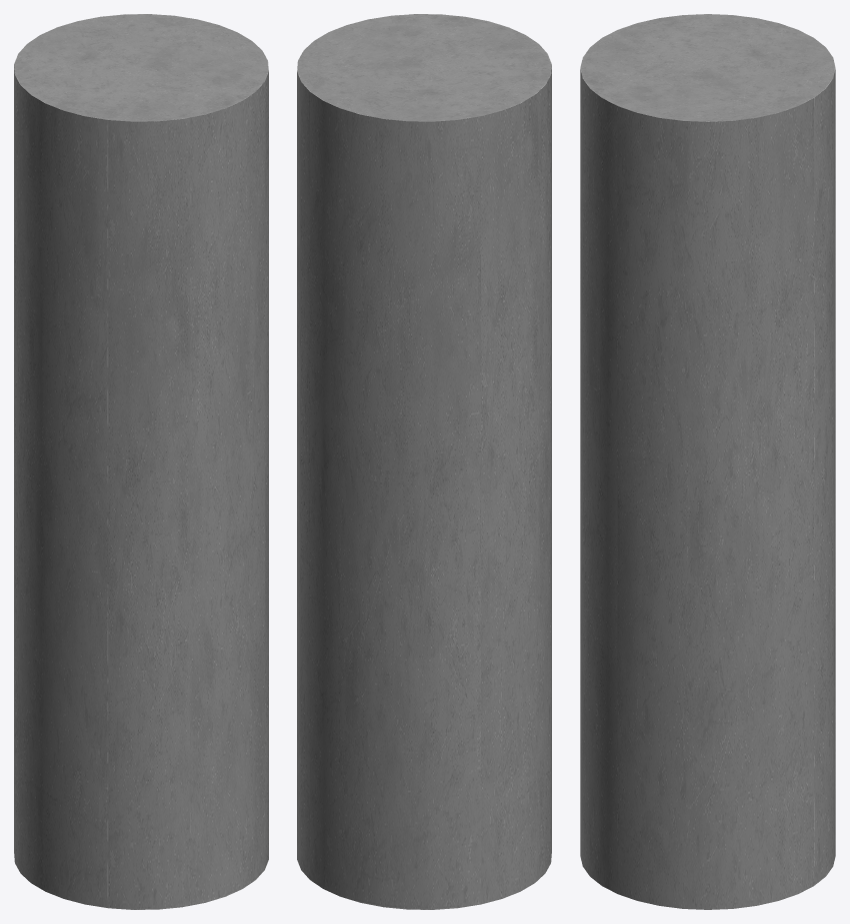
The model's file is poll2.fbx.
The picture shows the model from 3 angles, left to right: view 1: azimuth 30°, elevation 25°; view 2: azimuth 150°, elevation 25°; view 3: azimuth 270°, elevation 25°; orthographic projection.
Parts seen in each view (by area): view 1: poll2; view 2: poll2; view 3: poll2.
Boxes of the visible parts, x1=… form: poll2: x1=14, y1=14, x2=268, y2=909; poll2: x1=297, y1=14, x2=551, y2=909; poll2: x1=580, y1=14, x2=835, y2=909.
Bounding box in the file's own units: 27.97 × 95.25 × 27.97.
